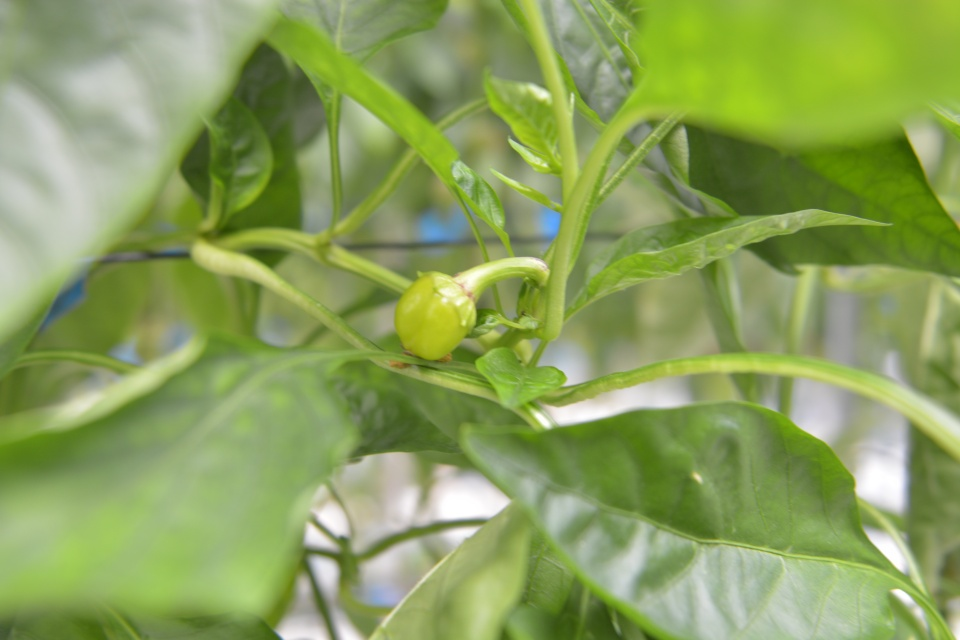immature: (390, 266, 480, 360)
